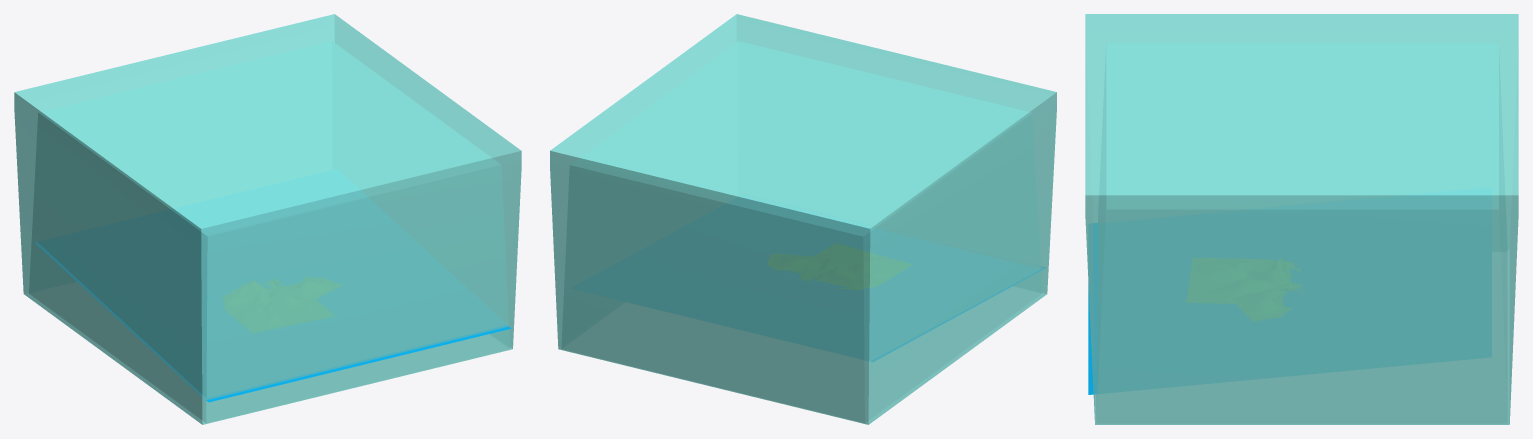
The picture shows the model from 3 angles, left to right: view 1: azimuth 30°, elevation 25°; view 2: azimuth 150°, elevation 25°; view 3: azimuth 270°, elevation 25°; orthographic projection. The views are drawn at different scales.
Parts seen in each view (by area): view 1: sky, Plane; view 2: sky; view 3: sky, Plane.
Part boxes in pixels (x1,y1,x2,y2): sky: (14,14,521,424); Plane: (35,242,511,402); sky: (550,14,1056,424); sky: (1085,14,1518,424); Plane: (1088,223,1097,394).
Size of the model in its own units: 57592 by 34428 by 58197.
